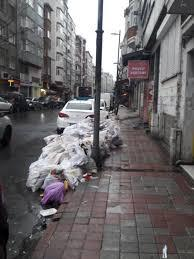Garbage: (32, 130, 93, 206), (28, 159, 95, 205), (30, 128, 93, 168), (101, 120, 128, 162), (35, 209, 61, 219)
